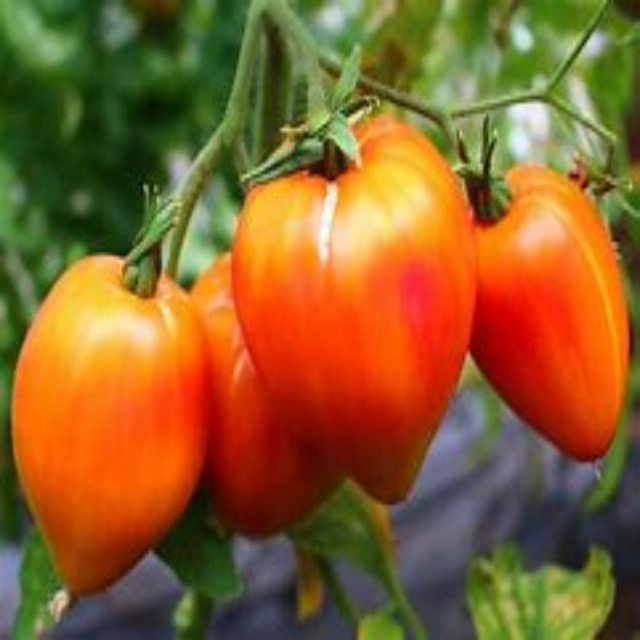tomato: (239, 110, 474, 499), (15, 253, 206, 597), (451, 167, 639, 457), (180, 264, 346, 544)
